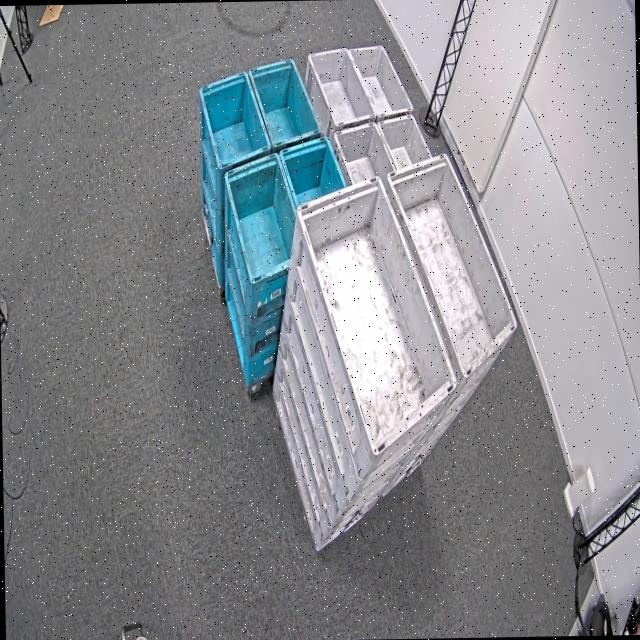Roll3G: (296, 173, 458, 457), (385, 150, 517, 380)
Roll8G: (306, 43, 414, 128), (332, 113, 433, 187)
RollB8: (223, 133, 349, 284), (198, 56, 322, 172)
